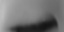LeftEyeFatigue: (4, 7, 60, 32)
